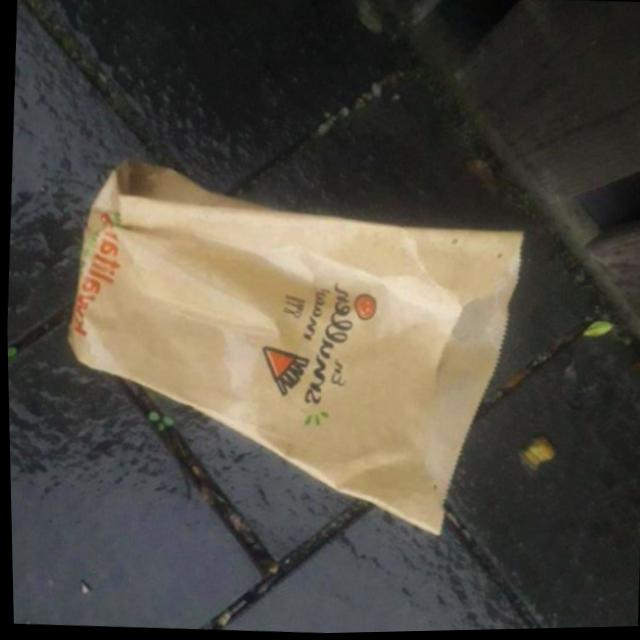Paper: (49, 149, 535, 551)
